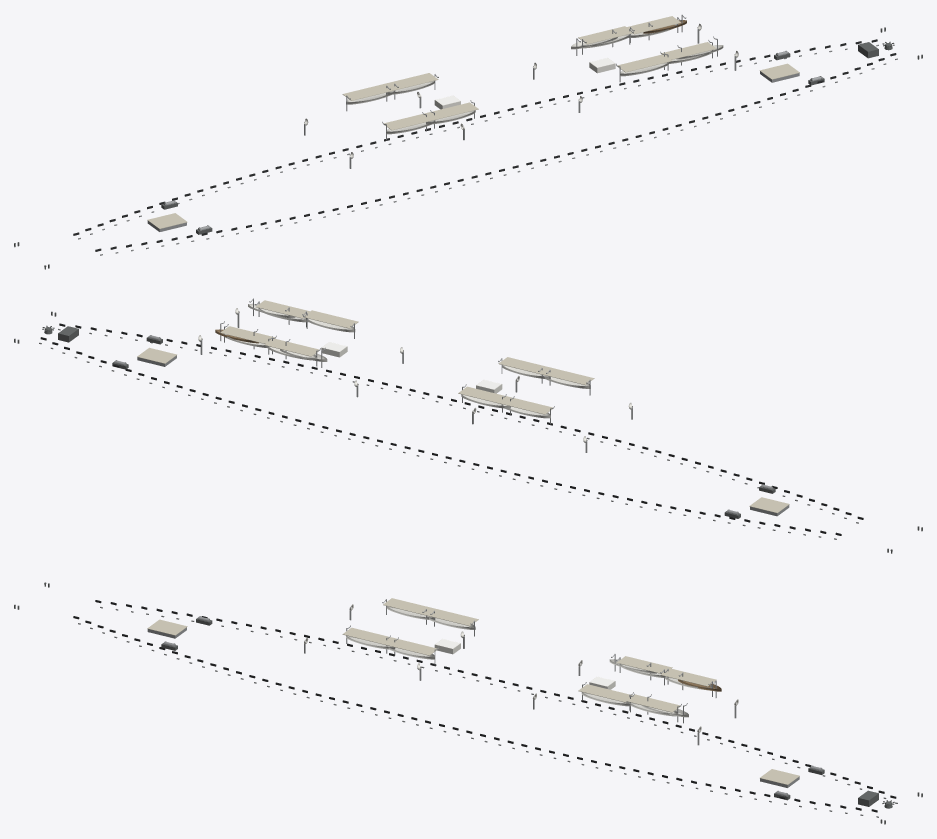
Rendered from DeckEquipment.glb.
3 renders of one model, top to bottom at view 1: azimuth 30°, elevation 25°; view 2: azimuth 150°, elevation 25°; view 3: azimuth 330°, elevation 25°, orthographic.
Visible parts, largest first — view 1: Boats_Davits, Scuppers, DeckMachinery; view 2: Boats_Davits, Scuppers, DeckMachinery; view 3: Boats_Davits, Scuppers, DeckMachinery.
Part boxes in pixels (x1=…): Boats_Davits: x1=342, y1=14, x2=723, y2=140; Scuppers: x1=73, y1=39, x2=897, y2=255; DeckMachinery: x1=14, y1=23, x2=922, y2=269; Boats_Davits: x1=215, y1=298, x2=594, y2=424; Scuppers: x1=39, y1=323, x2=863, y2=539; DeckMachinery: x1=14, y1=308, x2=922, y2=553; Boats_Davits: x1=342, y1=598, x2=721, y2=723; Scuppers: x1=73, y1=600, x2=897, y2=817; DeckMachinery: x1=14, y1=582, x2=922, y2=824.
Bounding box in the file's own units: 546 × 42.87 × 65.64.
